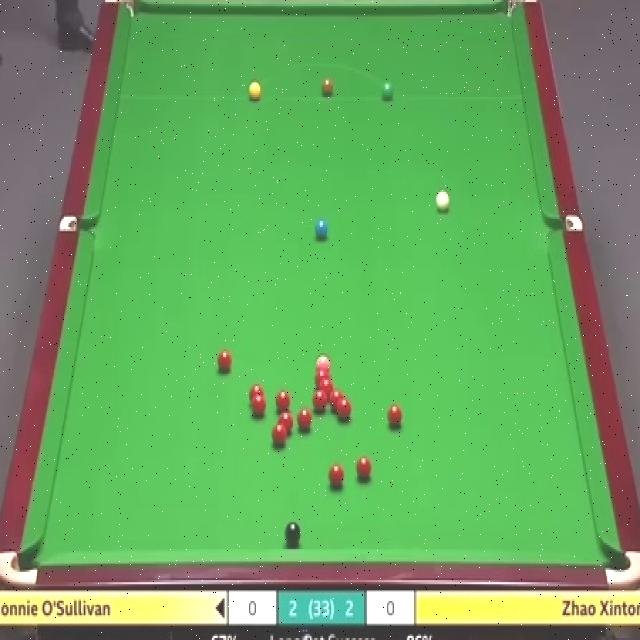black-ball: (284, 518, 301, 547)
blue-ball: (313, 217, 329, 242)
brown-ball: (320, 79, 333, 97)
green-ball: (382, 81, 394, 101)
pink-ball: (314, 352, 330, 368)
red-ball: (273, 423, 289, 449), (387, 404, 404, 428), (337, 396, 352, 421), (328, 464, 345, 486), (248, 383, 266, 403), (217, 348, 232, 372), (356, 457, 372, 479), (252, 397, 267, 420), (298, 408, 313, 430), (276, 392, 290, 413), (310, 391, 327, 408), (280, 412, 295, 431), (330, 392, 346, 409), (316, 378, 335, 391), (313, 369, 331, 379)
white-ball: (435, 188, 451, 216)
yellow-ball: (248, 80, 262, 102)
